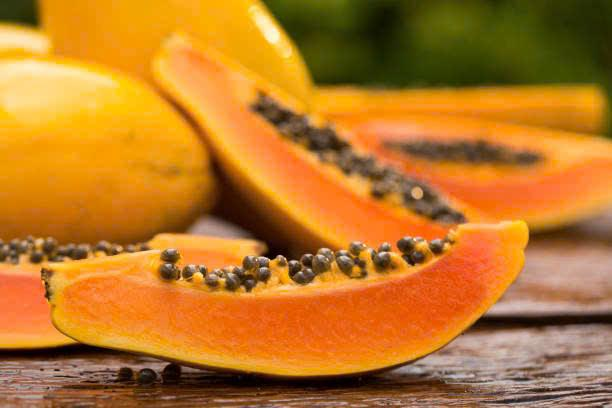papaya: (157, 38, 547, 257), (41, 254, 513, 383)
